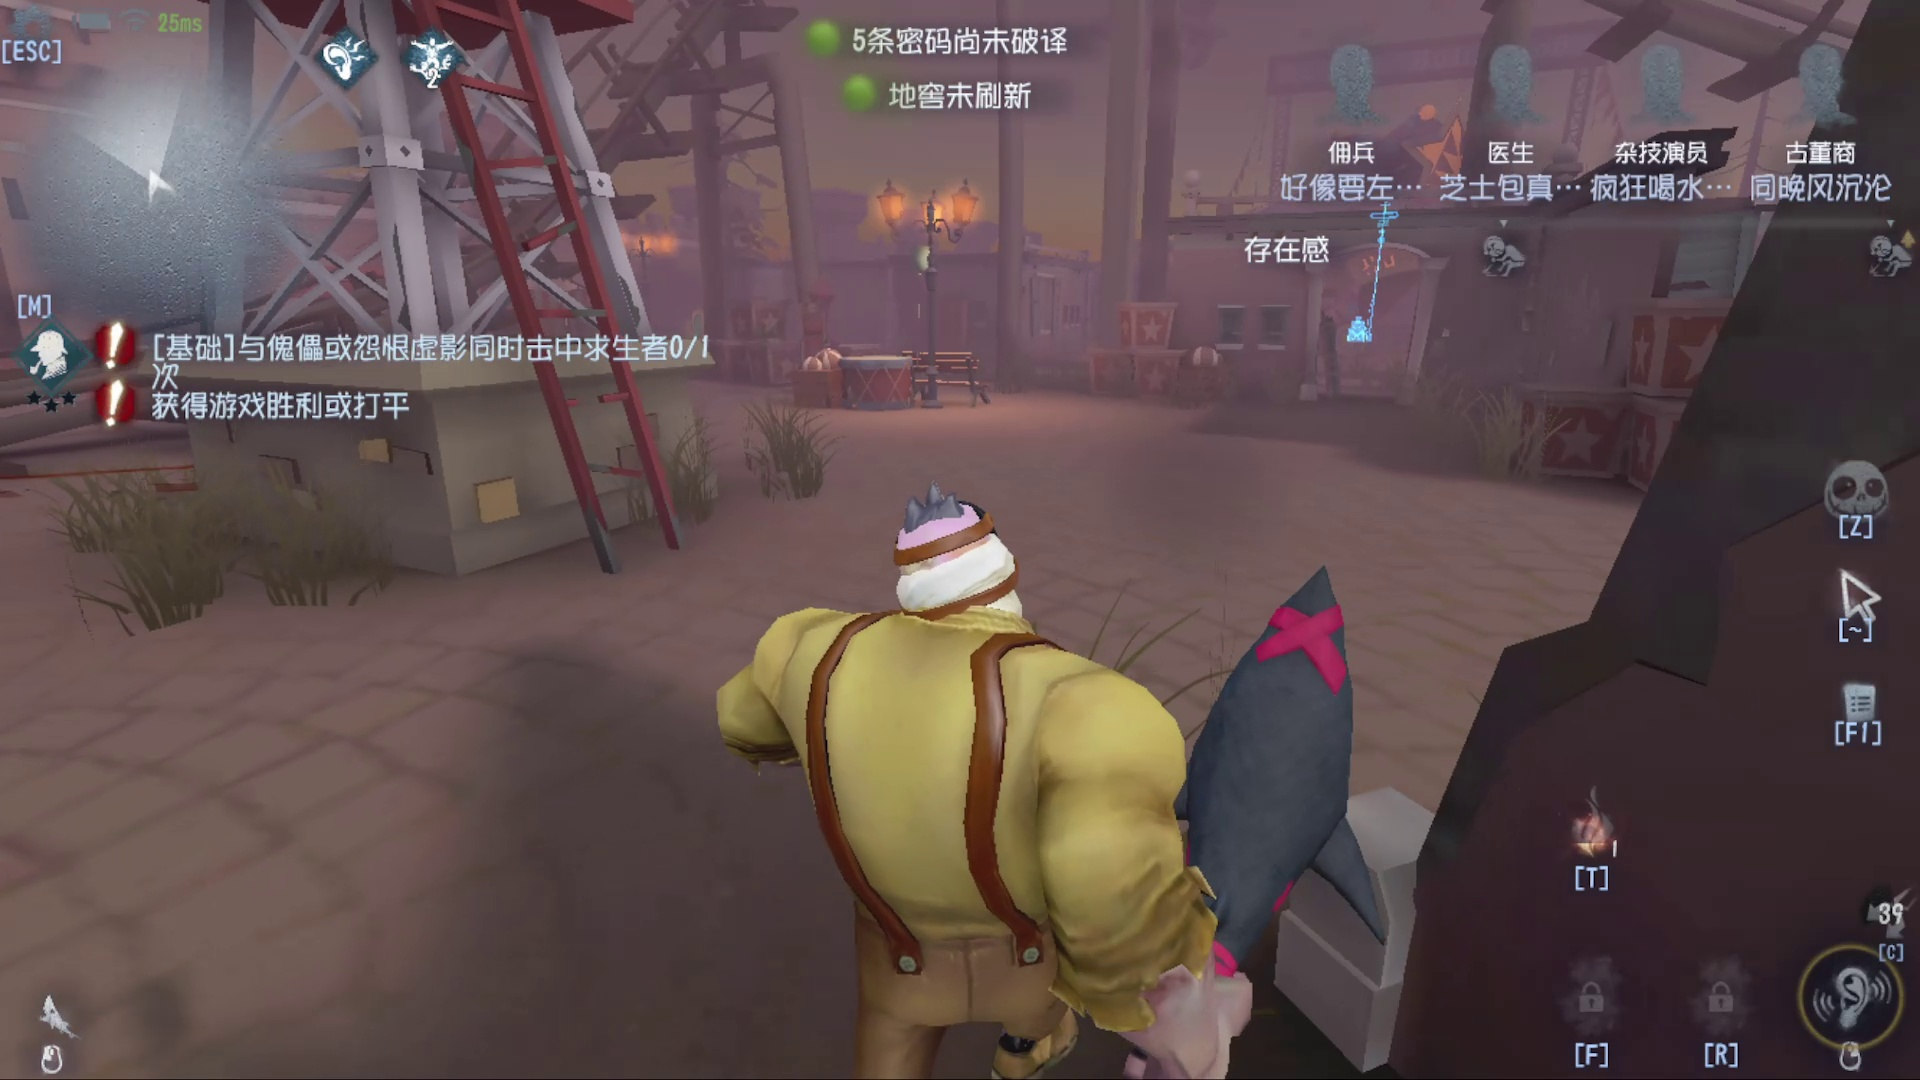密码机: (1331, 193, 1403, 368)
狂欢之椅: (785, 282, 843, 390)
